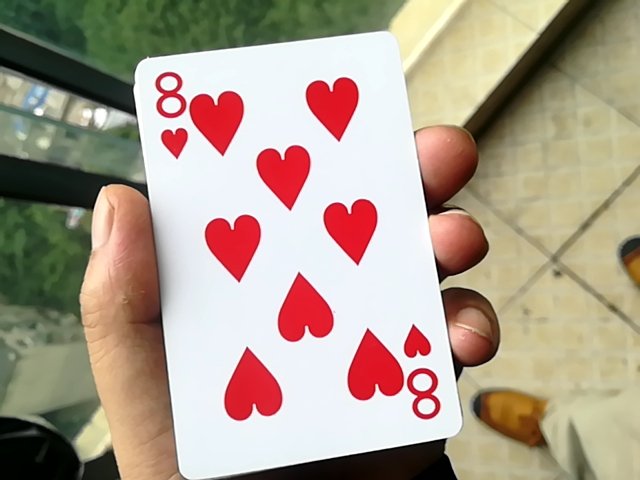hx 8: (116, 36, 460, 478)
